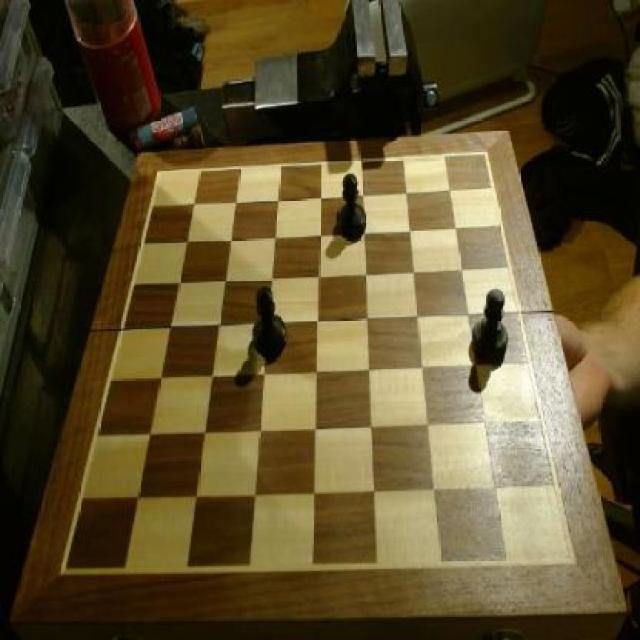black-knight: (471, 286, 511, 368), (251, 286, 288, 359), (337, 170, 369, 242)
